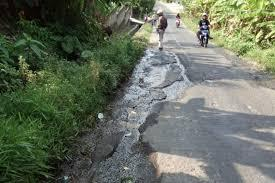Pothole: (140, 44, 203, 103), (104, 88, 158, 156)
